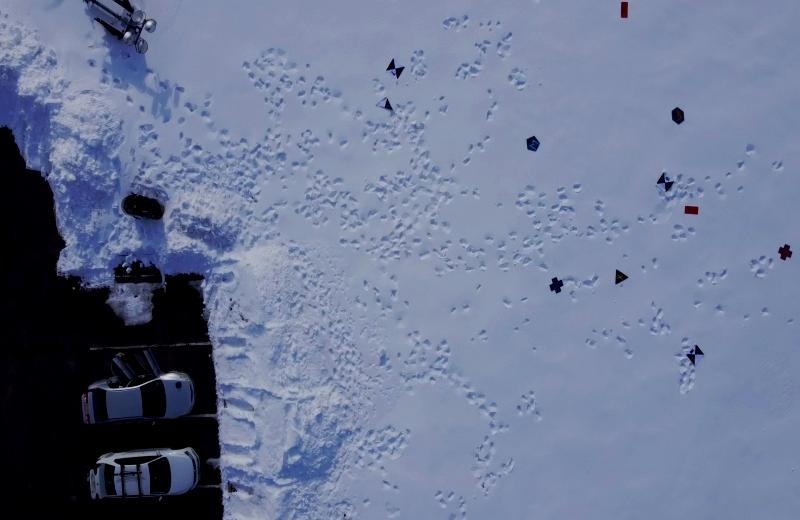Cross: (776, 244, 792, 262), (549, 277, 565, 295)
Hexagon: (670, 107, 686, 126)
Pentagon: (524, 134, 542, 154)
Rectangle: (618, 2, 630, 18), (684, 204, 698, 216)
Triangle: (613, 267, 629, 288)
